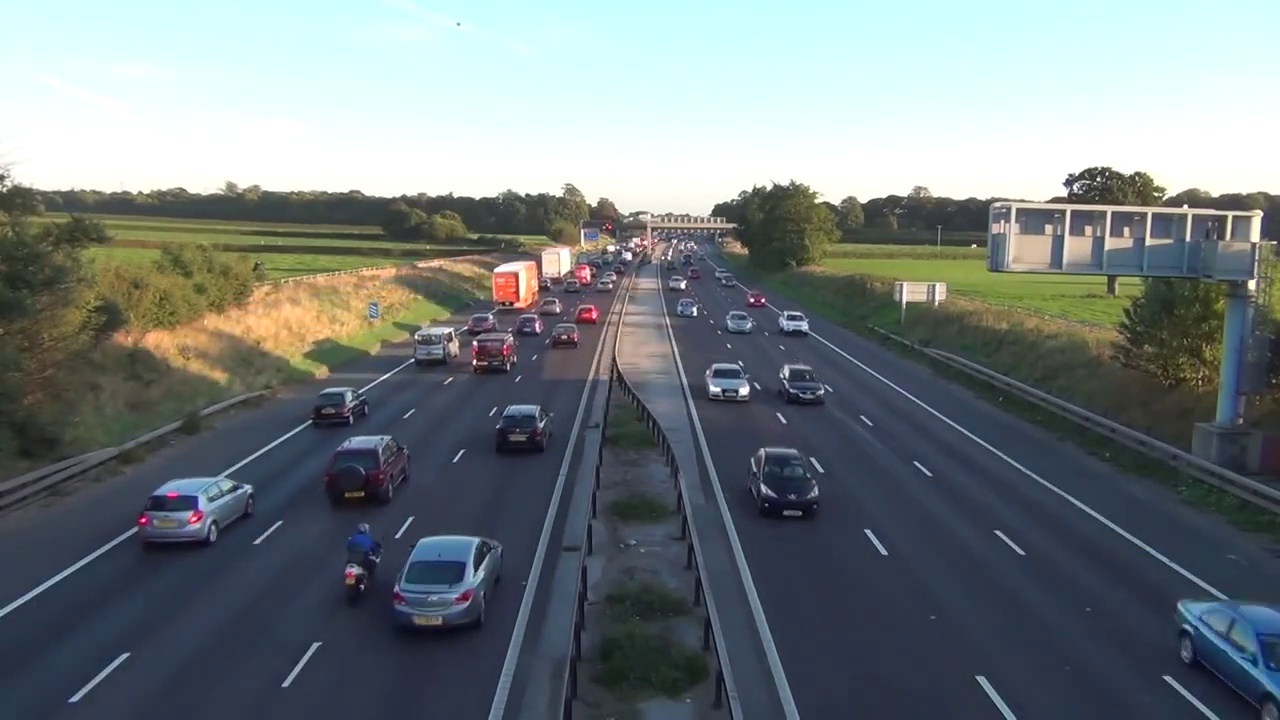bus: (1172, 580, 1280, 713), (387, 528, 508, 633), (132, 474, 262, 553), (325, 426, 426, 504), (742, 443, 826, 517), (488, 397, 560, 456), (695, 358, 759, 403), (775, 358, 831, 407), (317, 386, 370, 428), (550, 322, 582, 350), (777, 309, 809, 335), (724, 310, 754, 334), (466, 313, 500, 333), (514, 312, 545, 333), (538, 296, 563, 318), (573, 304, 601, 323), (675, 297, 699, 318), (744, 290, 766, 309), (666, 275, 689, 292), (562, 278, 580, 293), (596, 280, 614, 293), (538, 276, 552, 292), (722, 273, 736, 287), (714, 268, 729, 280), (687, 266, 701, 278), (604, 271, 618, 282), (665, 260, 677, 272), (589, 266, 598, 279), (612, 265, 624, 273), (591, 261, 602, 267)
car: (492, 261, 538, 311), (541, 249, 570, 286)
jeep: (337, 516, 385, 613)
lorry: (471, 332, 517, 373), (413, 326, 460, 365), (570, 259, 575, 273)
minibus: (573, 263, 591, 286), (680, 253, 694, 266)
